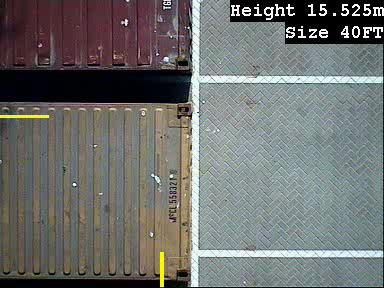groundmarker_2: (140, 5, 199, 50), (139, 180, 197, 225)
